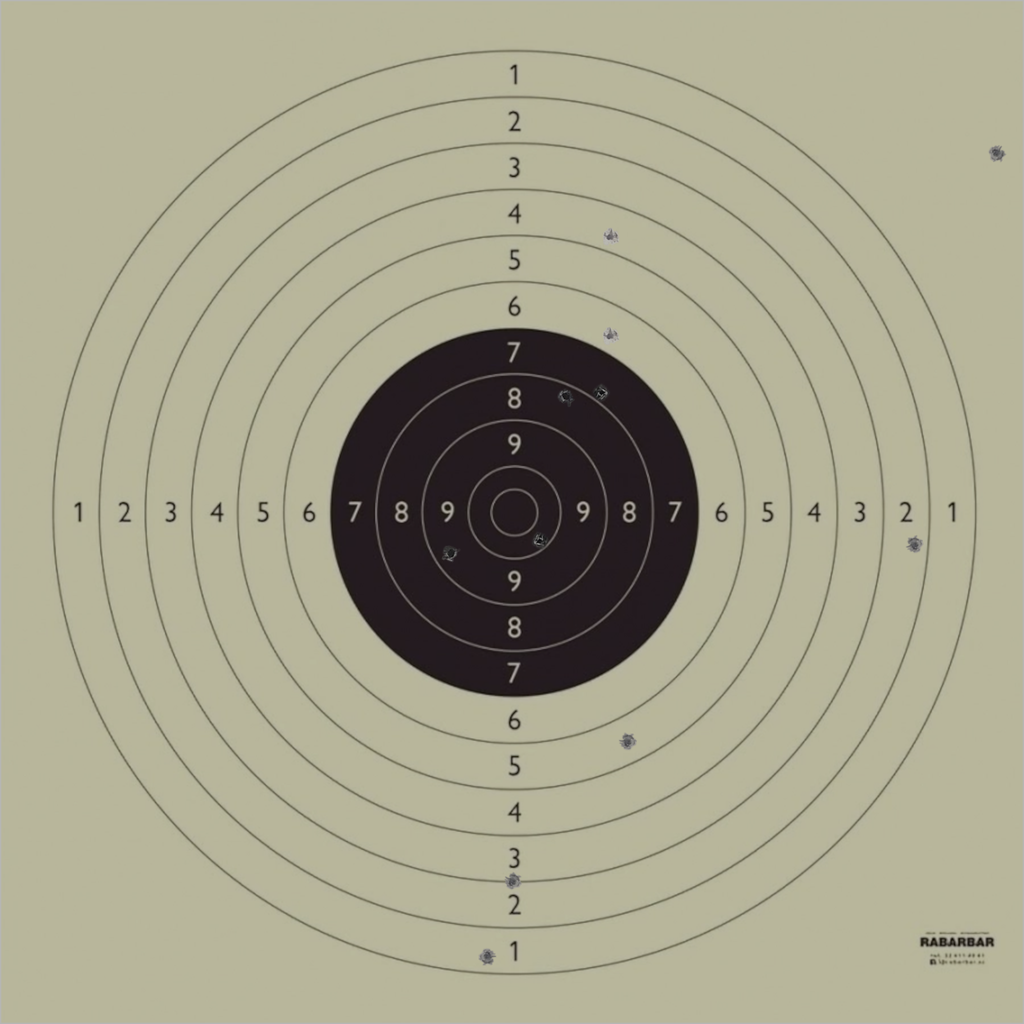0 punktow: (987, 144, 1006, 162)
1 punkt: (478, 947, 497, 965)
10 punktow: (530, 532, 549, 550)
2 punkty: (905, 536, 924, 554)
3 punkty: (503, 873, 522, 891)
4 punkty: (601, 228, 619, 246)
5 punktow: (618, 733, 637, 751)
6 punktow: (601, 327, 619, 345)
7 punktow: (593, 383, 611, 402)
8 punktow: (557, 387, 575, 406)
9 punktow: (442, 544, 460, 563)
